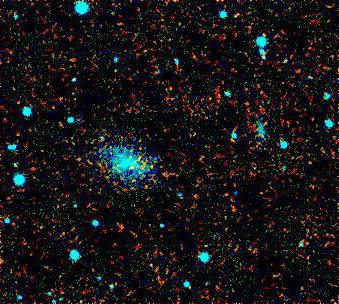star: (247, 22, 277, 52)
